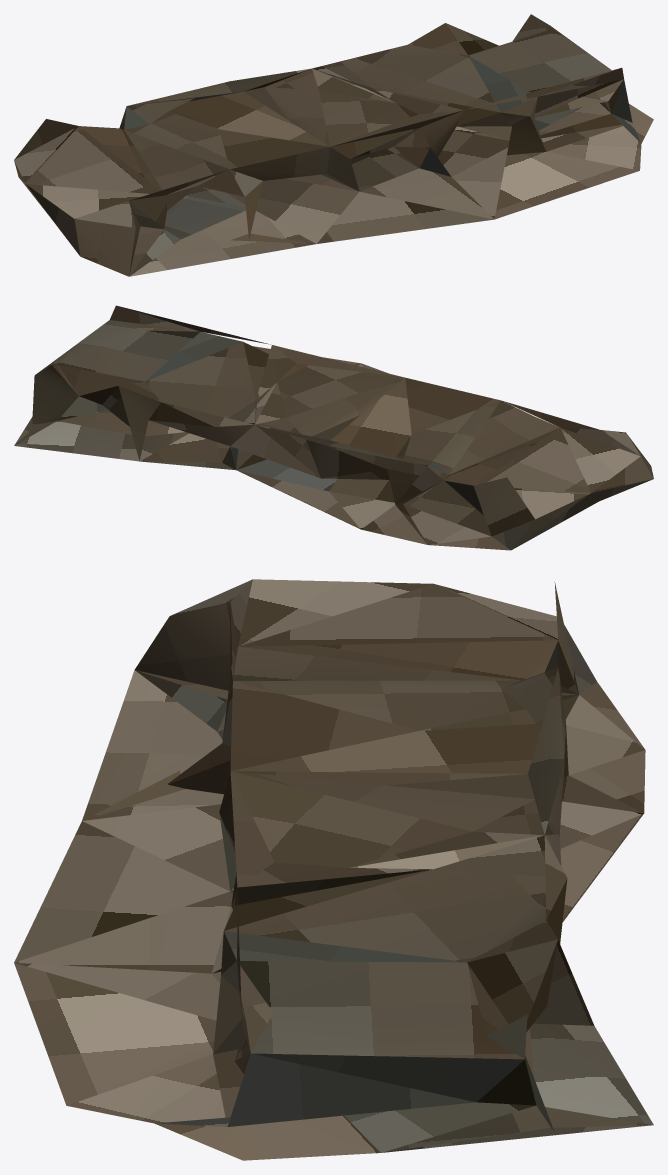
File: boardwalk-bridge.collision.glb
The picture shows the model from 3 angles, top to bottom: view 1: azimuth 30°, elevation 25°; view 2: azimuth 150°, elevation 25°; view 3: azimuth 270°, elevation 25°; orthographic projection. The views are drawn at different scales.
Parts seen in each view (by area): view 1: output_unwrapped; view 2: output_unwrapped; view 3: output_unwrapped.
Boxes of the visible parts, x1,y1,x2,y2 form: output_unwrapped: (14, 14, 653, 276); output_unwrapped: (14, 305, 653, 550); output_unwrapped: (14, 579, 653, 1160).
Bounding box in the file's own units: 1.84 × 0.2028 × 0.9668.
Materials: 1 (1 with a texture image).
